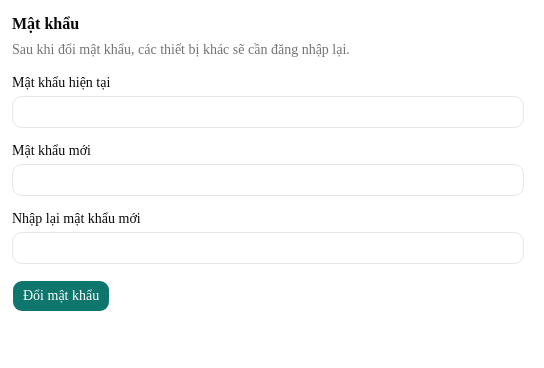
Test case: ChangePasswordFormContainer › lỗi khác (mất mạng, 5xx) -> câu chung đã dịch, không in message BE
This screenshot has width=544, height=368.
Type "old-password-1" into the password field labelled "Mật khẩu hiện tại" at (268, 112), box [12,96,524,128]
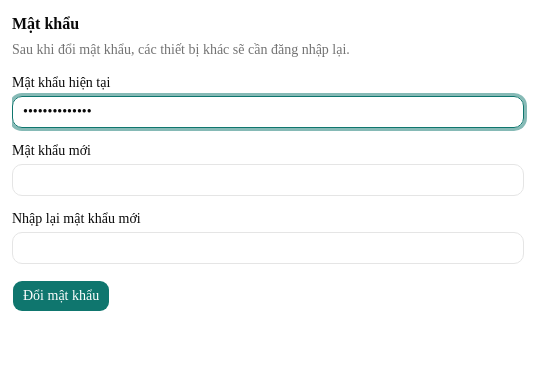
Type "new-password-2" into the password field labelled "Mật khẩu mới" at (268, 180), box [12,164,524,196]
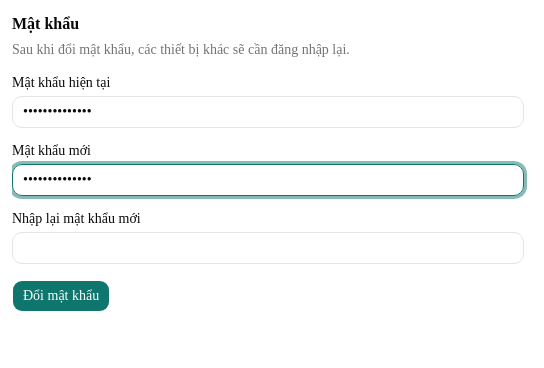
Type "new-password-2" into the password field labelled "Nhập lại mật khẩu mới" at (268, 248), box [12,232,524,264]
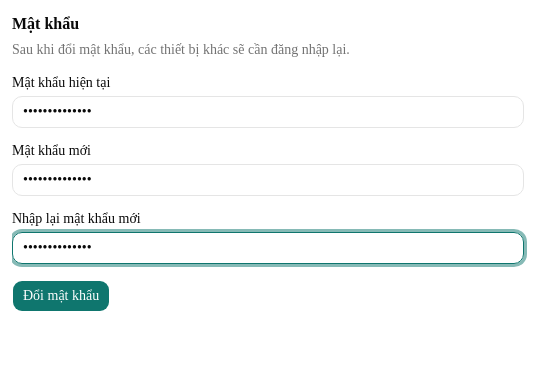
Click the button "Đổi mật khẩu" at (61, 296), box [12,280,110,312]
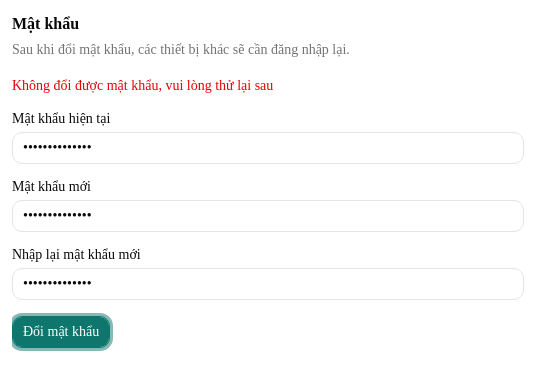
Check: the message shows "Không đổi được mật khẩu", box [12,78,273,93]
